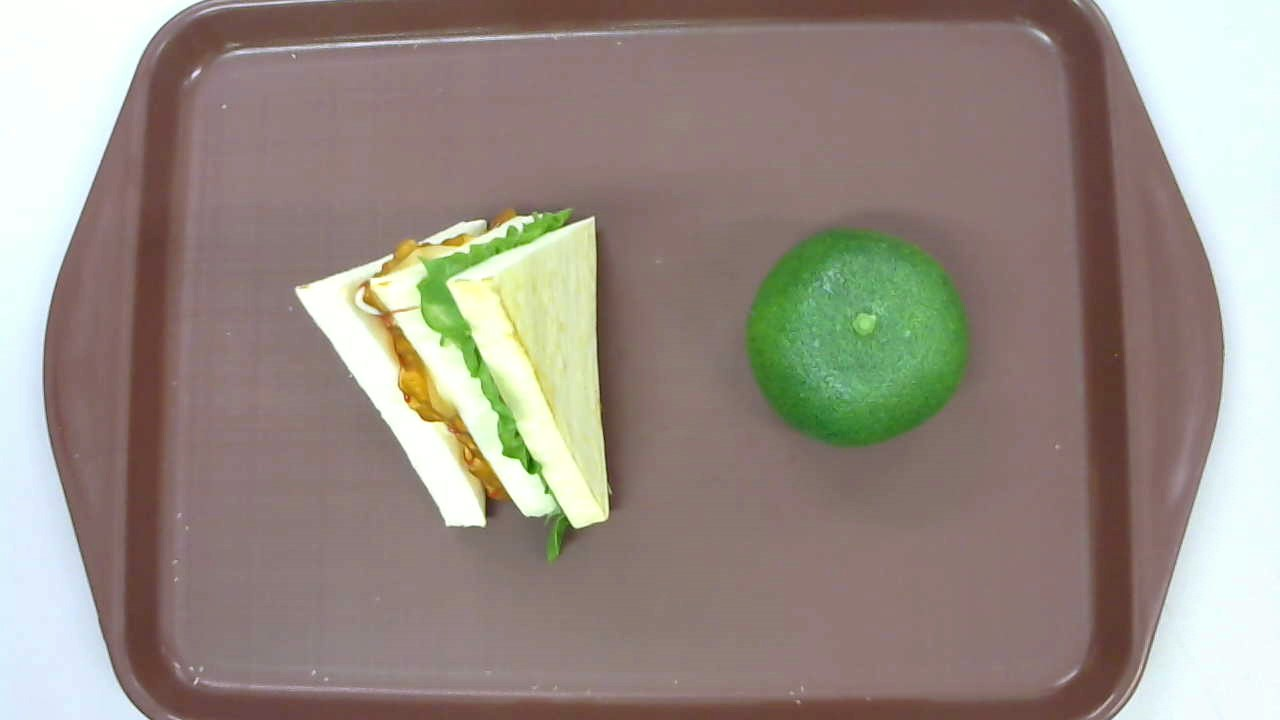green orange: (747, 226, 966, 447)
sandwich: (293, 206, 610, 564)
